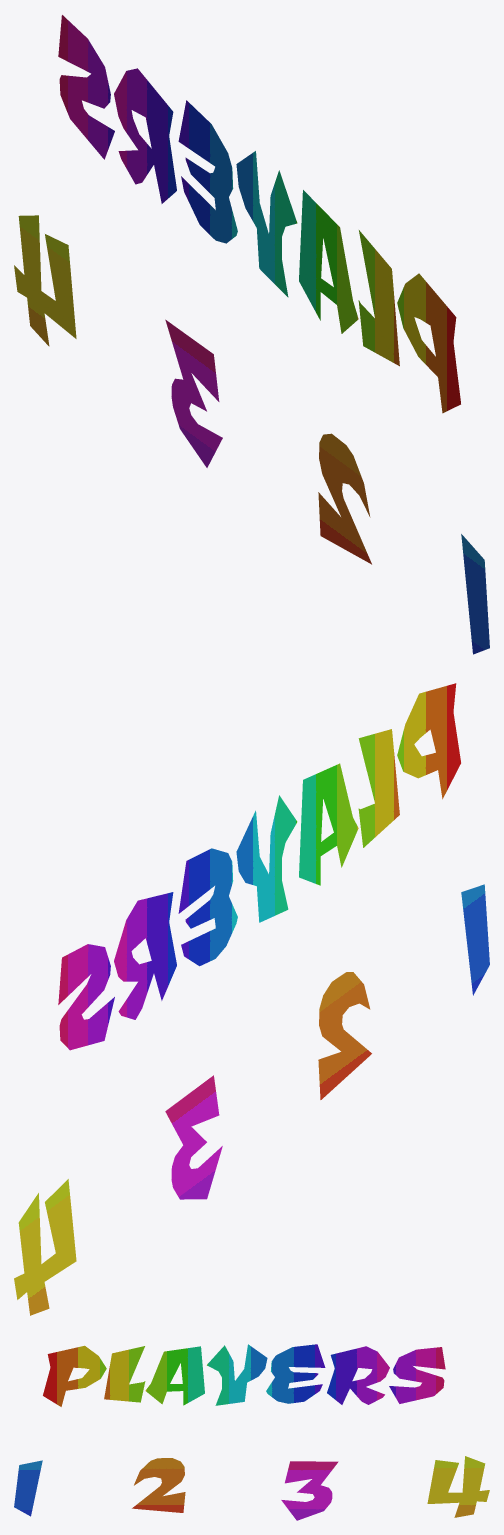
File: text_players.obj
3 views of the same model, one above another, from view 1: azimuth 30°, elevation 25°; view 2: azimuth 150°, elevation 25°; view 3: azimuth 270°, elevation 25° (orthographic). The views are drawn at different scales.
Parts seen in each view (by area): view 1: text_players; view 2: text_players; view 3: text_players.
Part boxes in pixels (<box>): text_players: <box>14,15,489,654</box>; text_players: <box>14,683,489,1315</box>; text_players: <box>14,1344,489,1520</box>.
Bounding box in the file's own units: 6.68e-06 × 31.98 × 78.04.
1 material, 1 textured.
